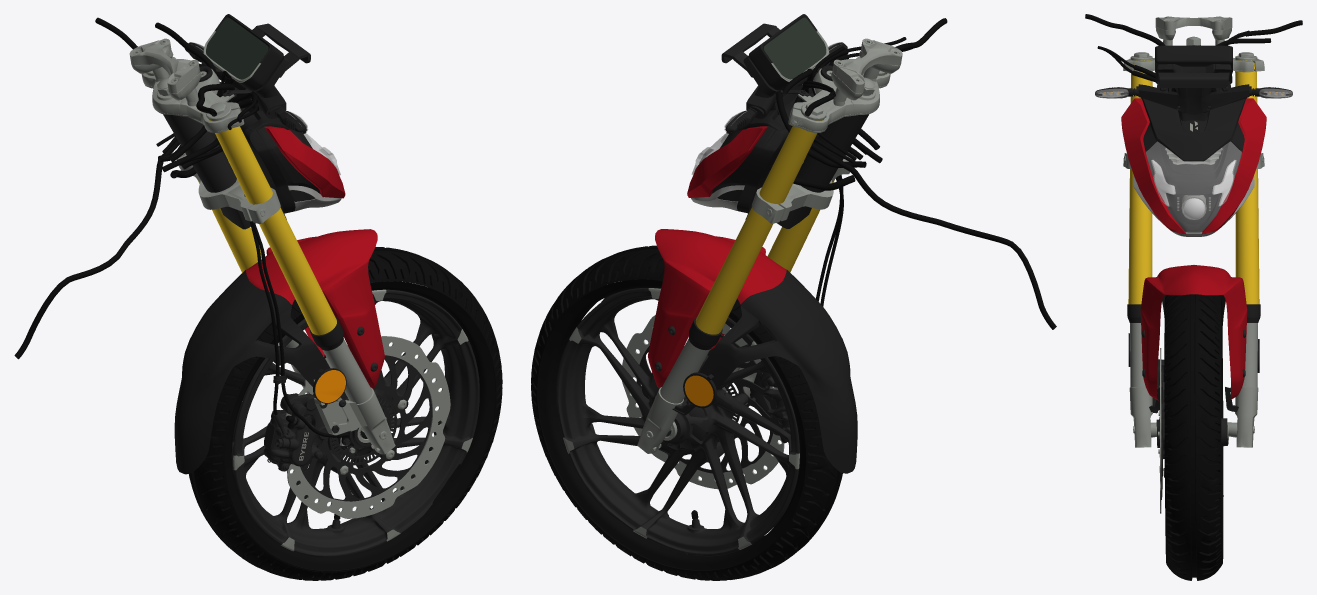
File: Front_Suspension.fbx
The picture shows the model from 3 angles, left to right: view 1: azimuth 30°, elevation 25°; view 2: azimuth 150°, elevation 25°; view 3: azimuth 270°, elevation 25°; orthographic projection. The views are drawn at different scales.
Visible parts, largest first — view 1: FrontTyre, Front_Part, Suspension, Headlight, Speedometer, Suspension_Rod, Display, Clutch_Wire, Front_Indicators; view 2: FrontTyre, Suspension, Front_Part, Headlight, Speedometer, Suspension_Rod, Clutch_Wire, Display, Front_Indicators; view 3: FrontTyre, Headlight, Suspension, Front_Part, Suspension_Rod, Speedometer, Front_Indicators, Clutch_Wire.
Boxes of the visible parts, left/top/right/bottom form: FrontTyre: left=189, top=247, right=502, bottom=580; Front_Part: left=174, top=229, right=384, bottom=474; Suspension: left=95, top=17, right=343, bottom=437; Headlight: left=219, top=82, right=345, bottom=211; Speedometer: left=203, top=14, right=283, bottom=90; Suspension_Rod: left=286, top=339, right=395, bottom=454; Display: left=206, top=17, right=268, bottom=79; Clutch_Wire: left=14, top=22, right=217, bottom=359; Front_Indicators: left=184, top=42, right=307, bottom=132; FrontTyre: left=531, top=245, right=842, bottom=580; Suspension: left=689, top=18, right=947, bottom=350; Front_Part: left=648, top=229, right=857, bottom=473; Headlight: left=687, top=84, right=812, bottom=210; Speedometer: left=749, top=14, right=829, bottom=90; Suspension_Rod: left=637, top=338, right=741, bottom=453; Clutch_Wire: left=782, top=68, right=1056, bottom=329; Display: left=764, top=17, right=826, bottom=79; Front_Indicators: left=724, top=42, right=847, bottom=132; FrontTyre: left=1156, top=294, right=1228, bottom=580; Headlight: left=1121, top=98, right=1266, bottom=236; Suspension: left=1085, top=14, right=1302, bottom=322; Front_Part: left=1128, top=265, right=1259, bottom=413; Suspension_Rod: left=1129, top=323, right=1258, bottom=447; Speedometer: left=1155, top=45, right=1232, bottom=73; Front_Indicators: left=1095, top=86, right=1292, bottom=98; Clutch_Wire: left=1214, top=38, right=1271, bottom=90.
Size of the model in its own units: 97.72 by 106 by 43.25.
